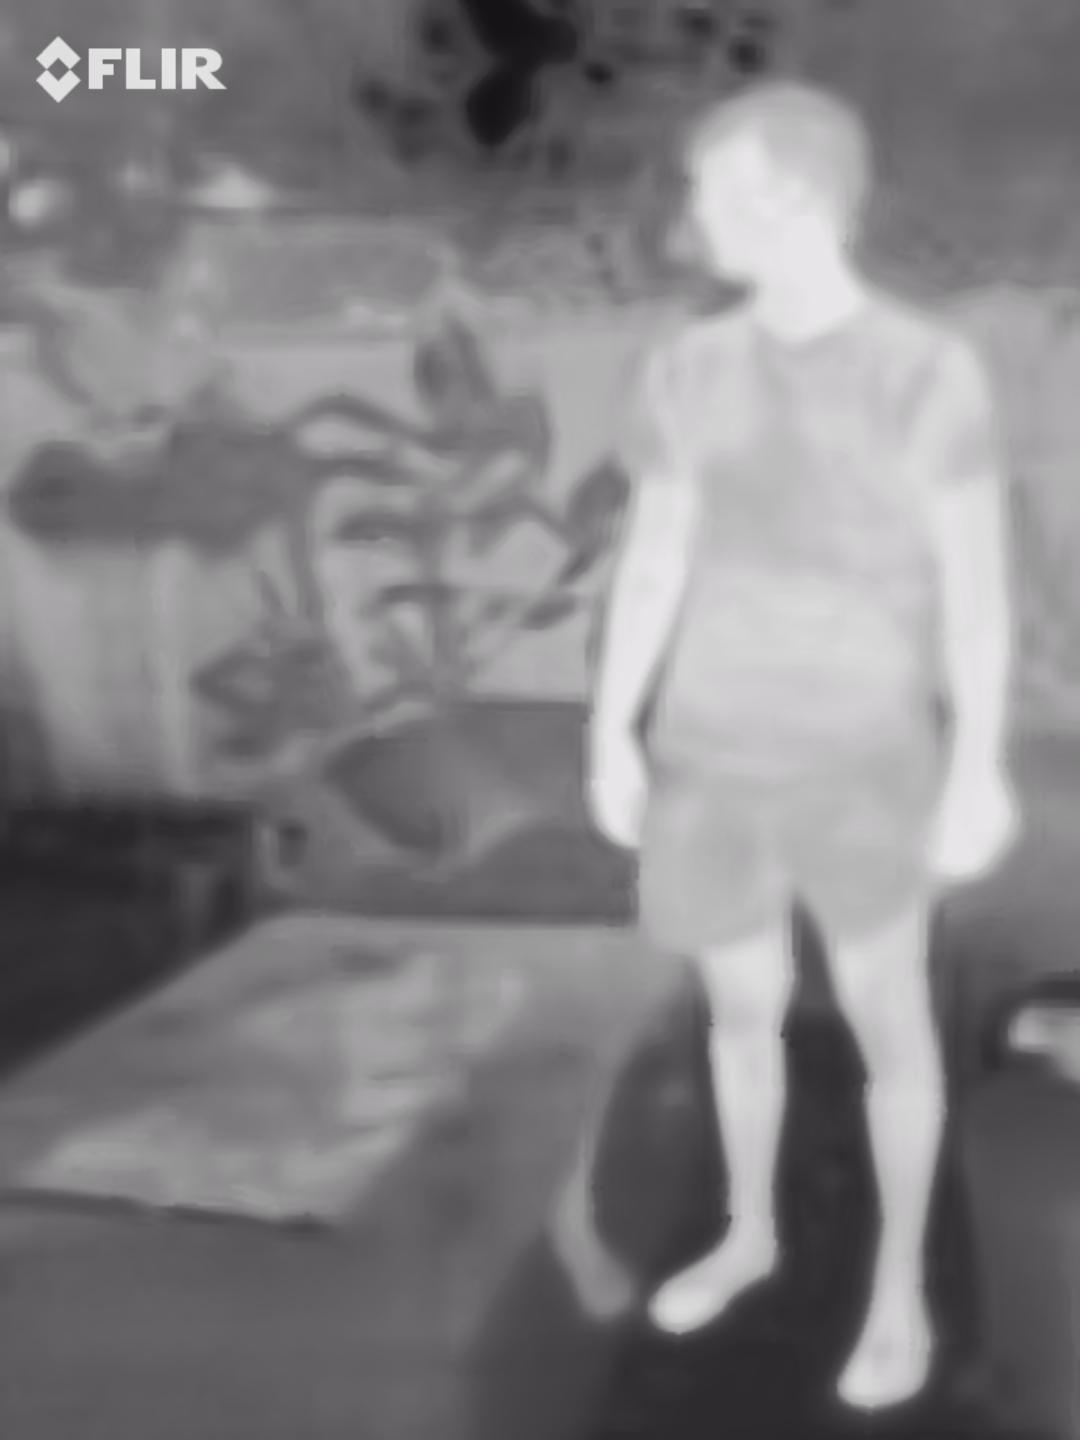head: (685, 74, 874, 292)
